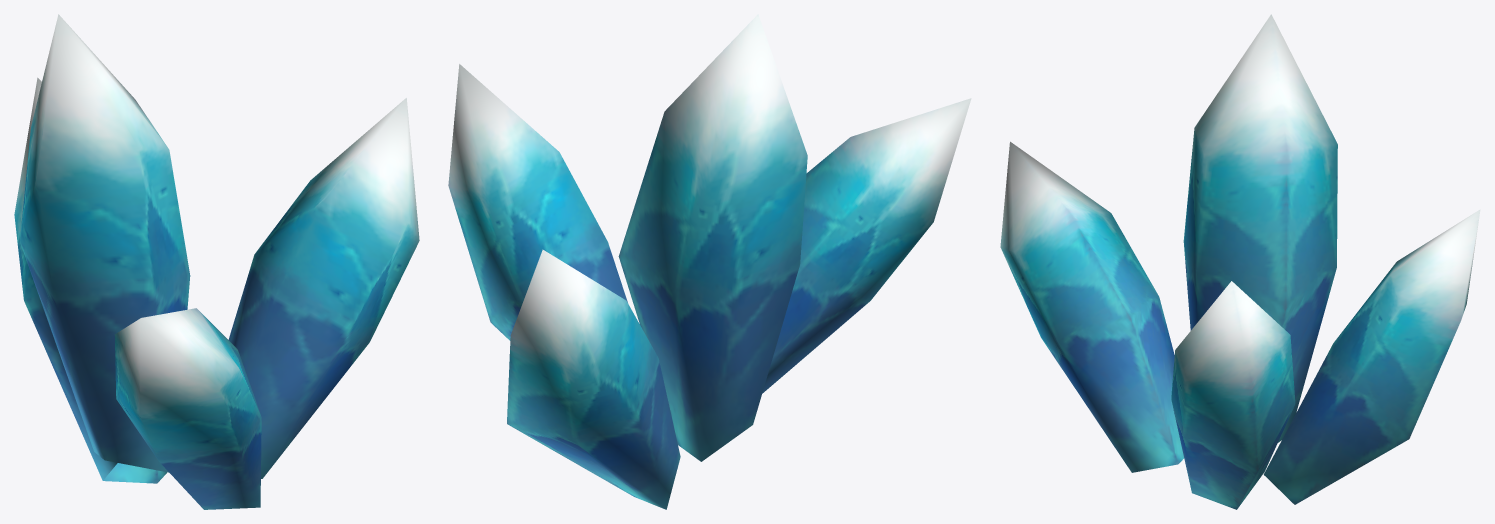
File: SM_stoneB_17.fbx
The picture shows the model from 3 angles, left to right: view 1: azimuth 30°, elevation 25°; view 2: azimuth 150°, elevation 25°; view 3: azimuth 270°, elevation 25°; orthographic projection. The views are drawn at different scales.
Parts seen in each view (by area): view 1: SM_stoneB_17; view 2: SM_stoneB_17; view 3: SM_stoneB_17.
Part boxes in pixels (bbox=[...]): SM_stoneB_17: bbox=[14, 14, 419, 509]; SM_stoneB_17: bbox=[448, 14, 971, 509]; SM_stoneB_17: bbox=[1000, 14, 1480, 509].
Size of the model in its own units: 0.8295 by 1.02 by 1.01.
